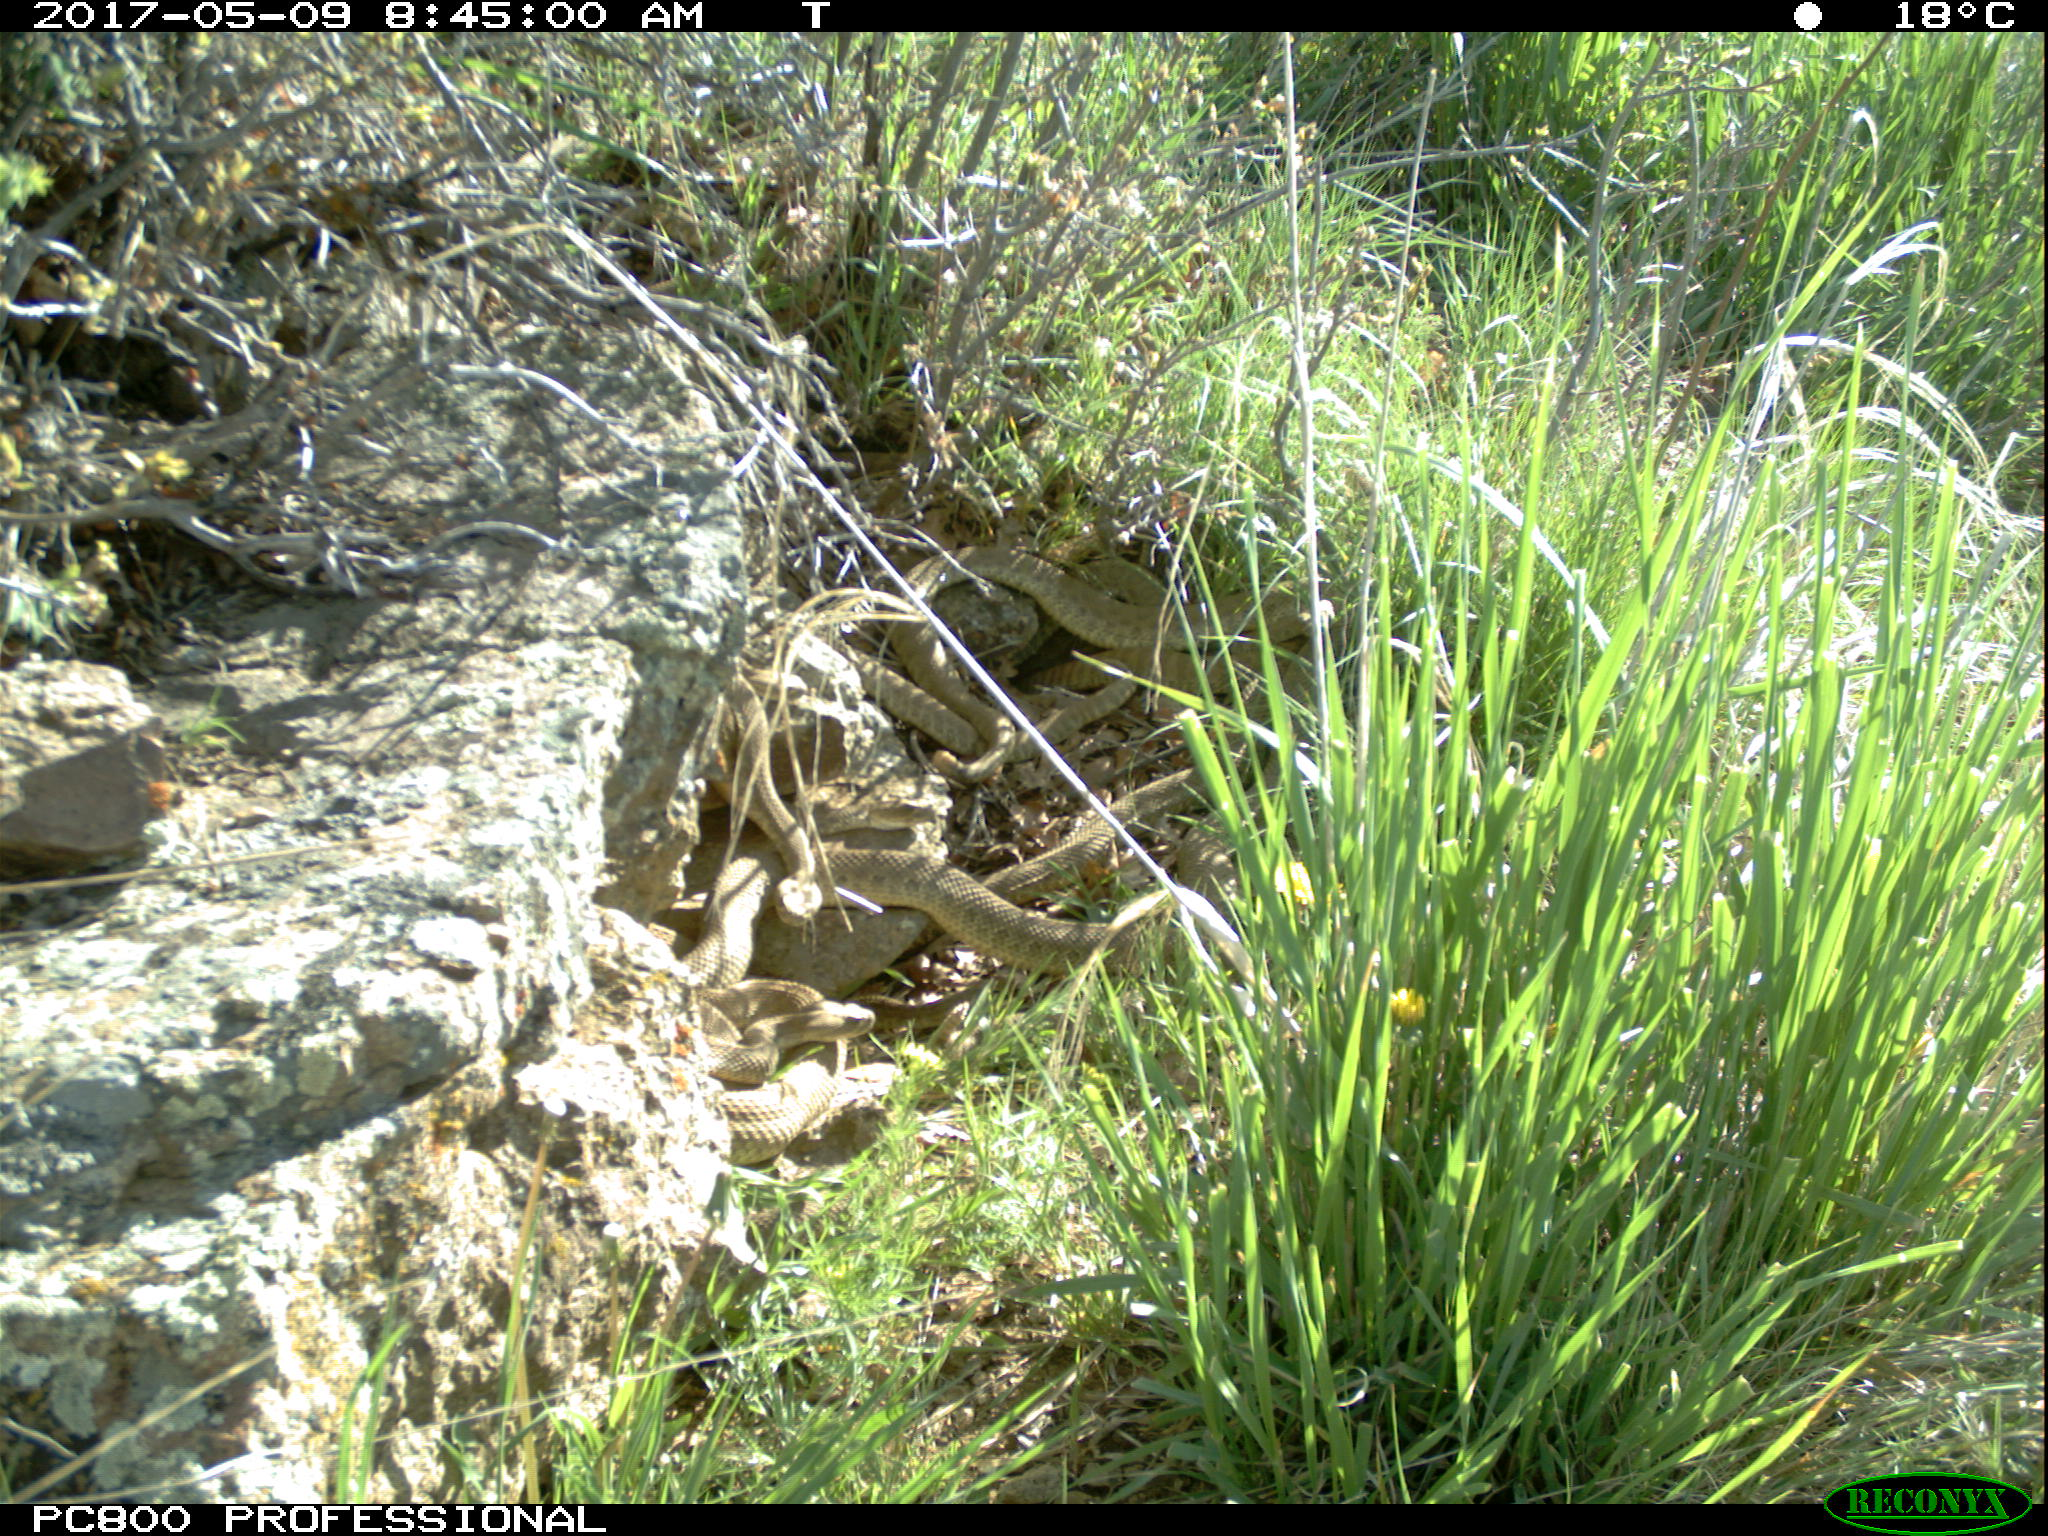snake: (690, 847, 1188, 987), (890, 549, 1316, 676), (822, 629, 1135, 770), (697, 978, 897, 1167), (703, 676, 834, 920)
